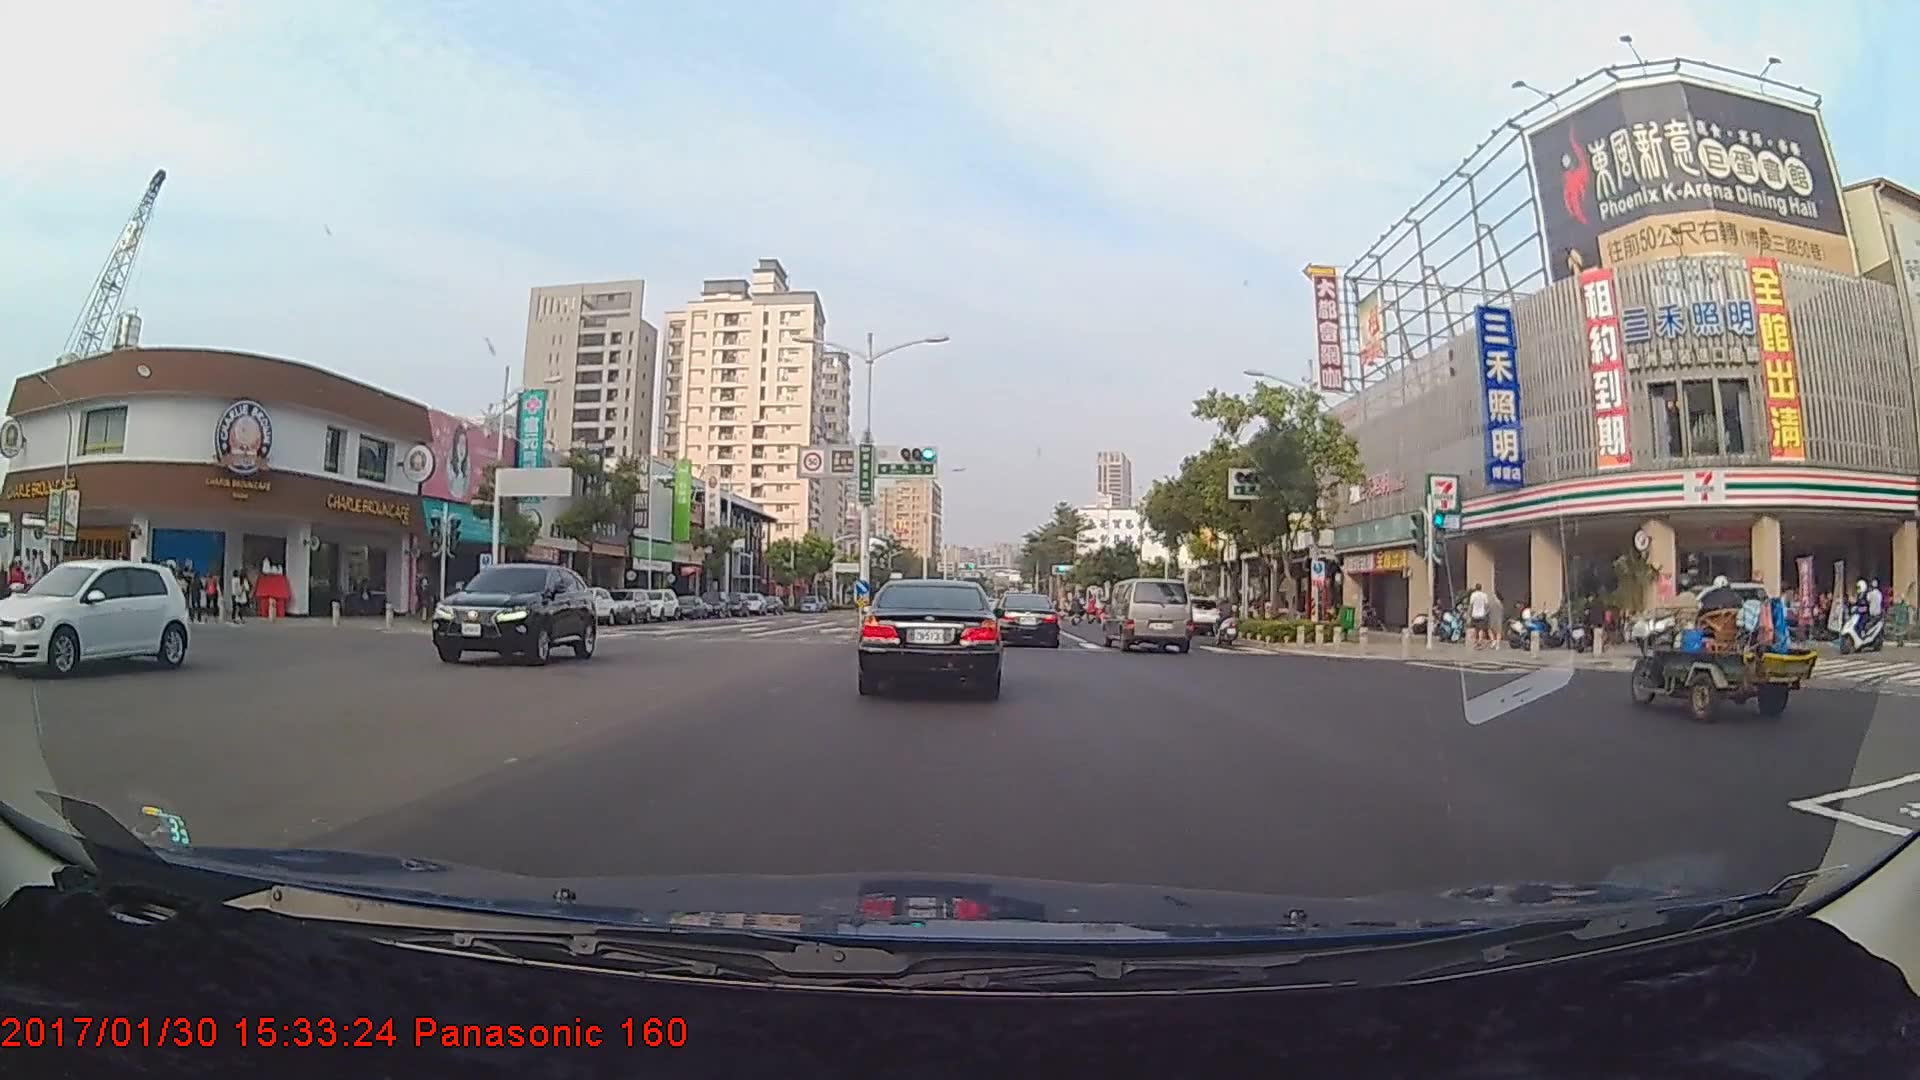pedestrian: (1467, 581, 1492, 648), (1485, 589, 1507, 650), (415, 573, 435, 622)
rider: (1831, 574, 1893, 656), (1213, 592, 1249, 650)
vehicle: (860, 574, 1001, 697), (434, 561, 599, 666), (43, 555, 185, 670), (1622, 579, 1770, 655), (1105, 577, 1192, 654), (988, 588, 1061, 650), (554, 585, 615, 622), (603, 581, 653, 619), (633, 589, 680, 623), (675, 593, 709, 621)
